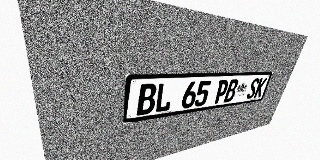5: (194, 81, 212, 107)
6: (181, 81, 199, 109)
B: (136, 83, 157, 116), (223, 79, 239, 103)
K: (253, 78, 268, 98)
L: (154, 82, 174, 113)
P: (213, 80, 230, 104)
S: (246, 78, 260, 99)
